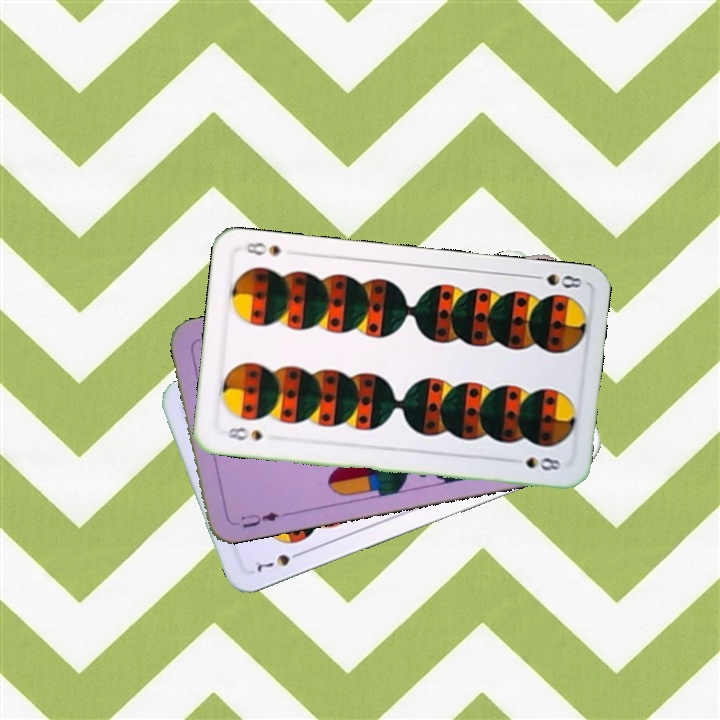EU: (237, 508, 282, 531)
S7: (251, 547, 307, 575)
S8: (526, 270, 585, 291), (217, 423, 265, 444)
